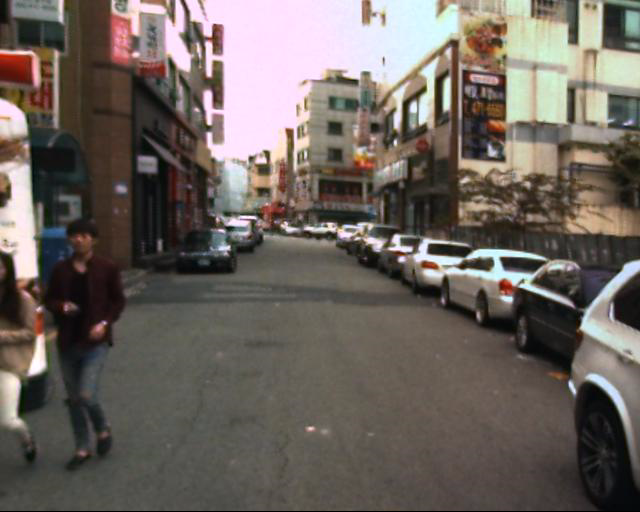person: (39, 205, 129, 481), (0, 230, 57, 481)
